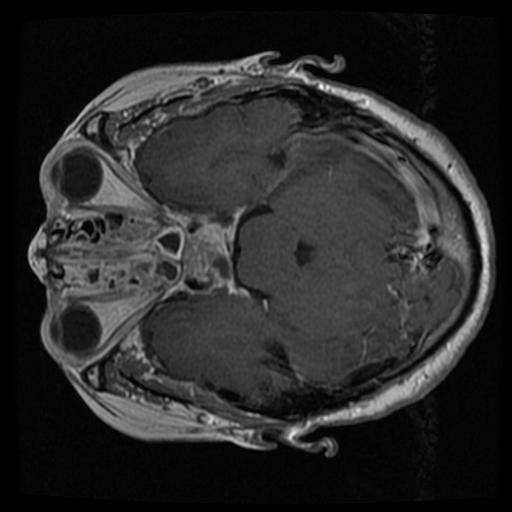pituitary tumour: (181, 226, 233, 290)
